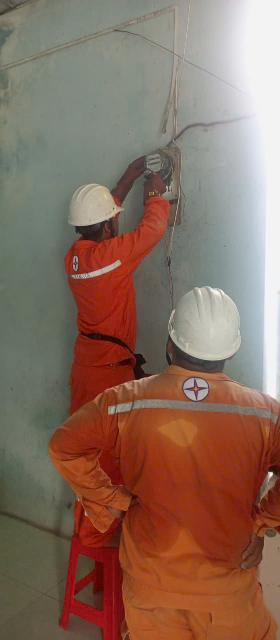gloves: (103, 151, 148, 203), (142, 172, 166, 205)
harness: (72, 323, 156, 376)
helmet: (161, 281, 250, 371), (61, 181, 130, 231)
